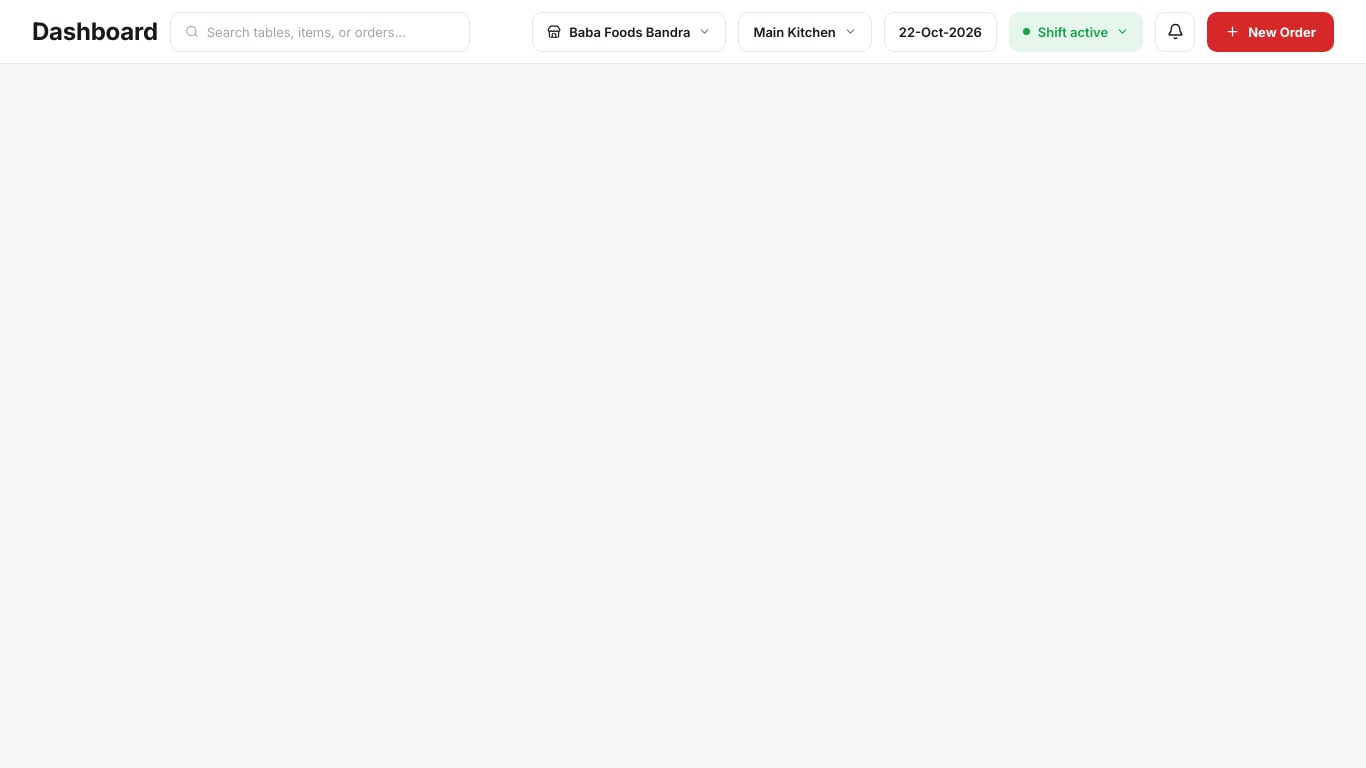
it: Adding a restaurant › derives the public address from the name
Step 1. Click the button "Baba Foods Bandra" → (629, 32), box [532,12,726,52]
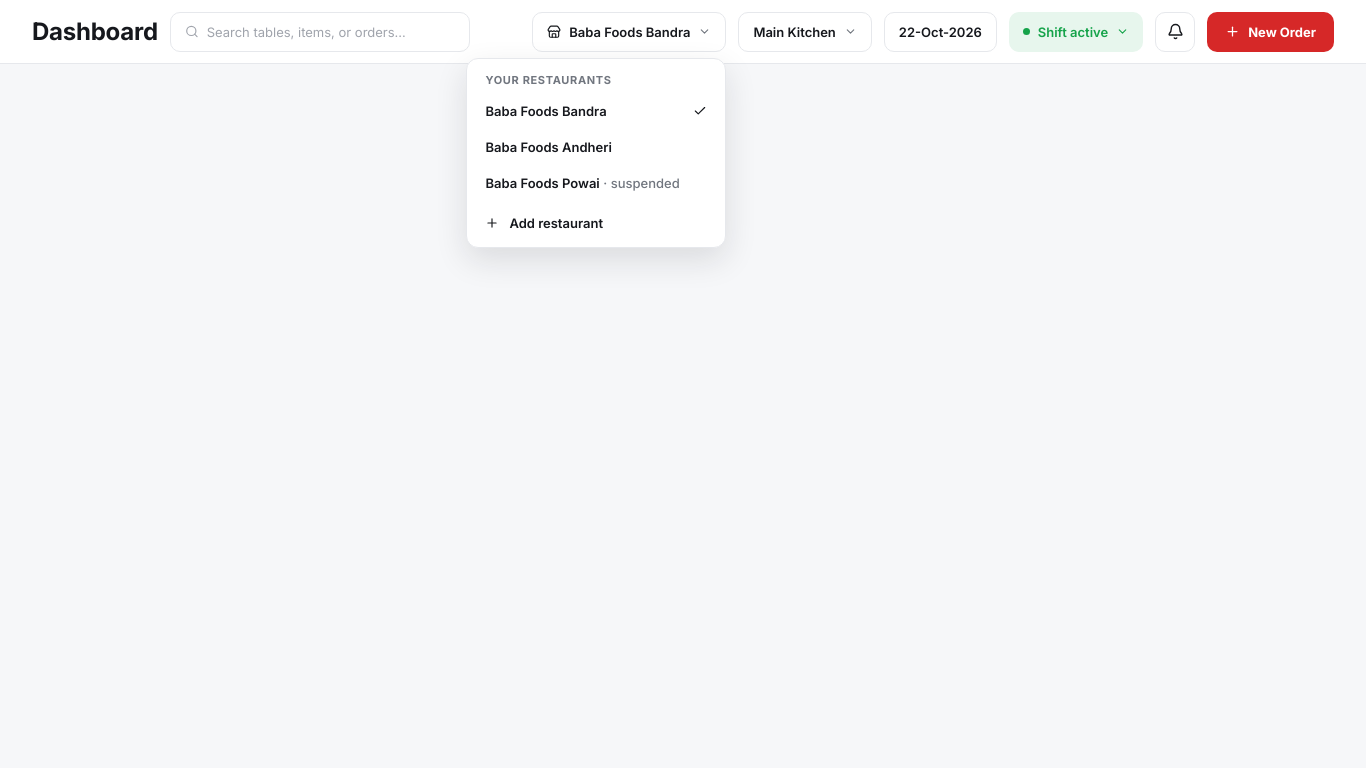
Step 2. Click the button "Add restaurant" → (596, 222), box [473,204,719,240]
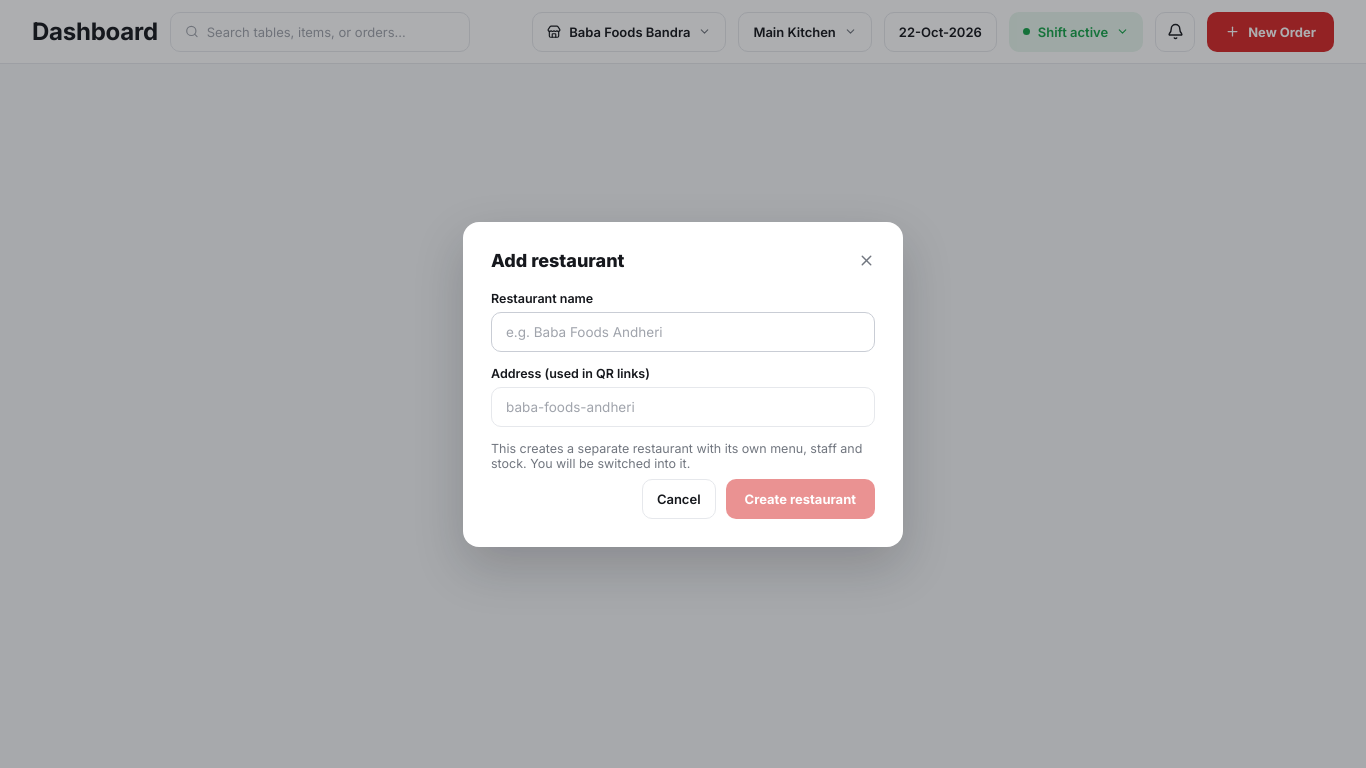
Step 3. Type "Baba Foods  Juhu!" into the field with placeholder "e.g. Baba Foods Andheri" → (683, 332), box [491,312,875,352]
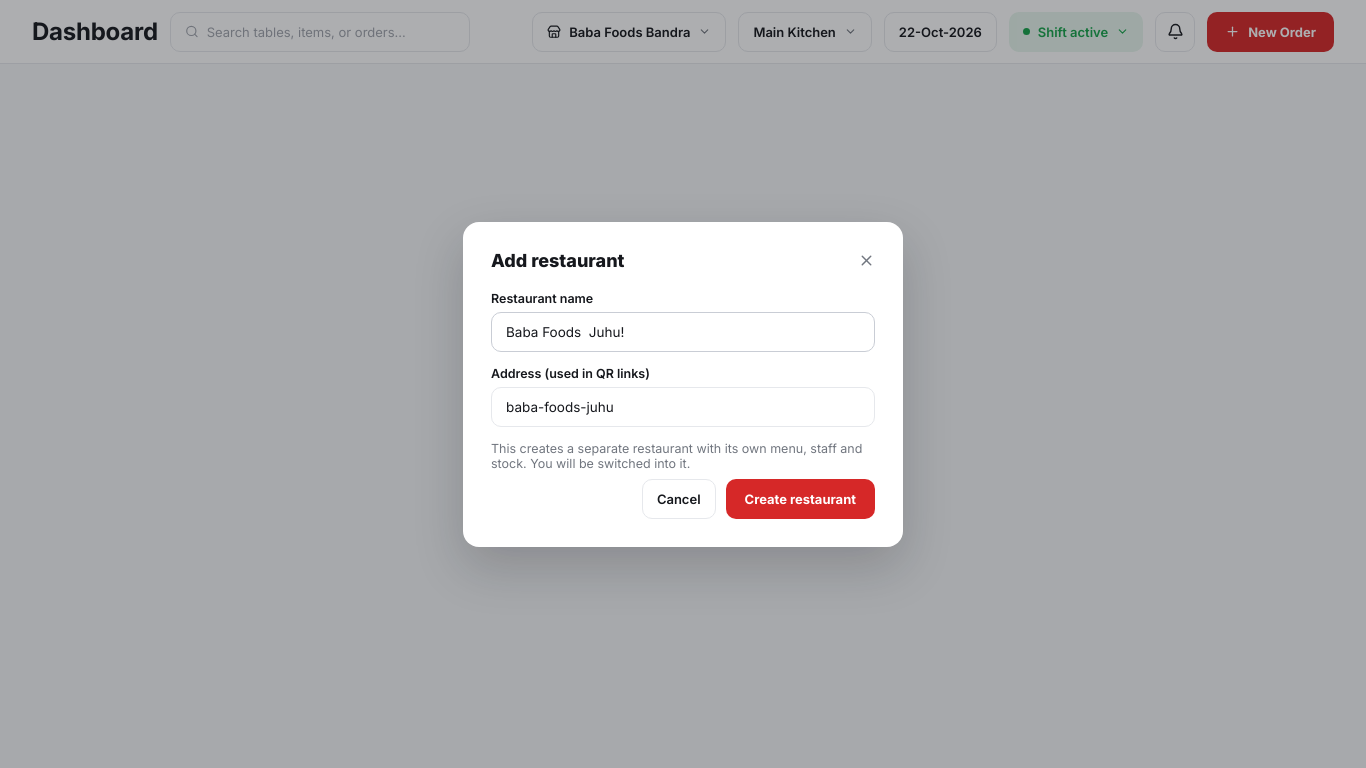
Now the field showing "baba-foods-juhu" below "Address (used in QR links)" is shown, box [491,386,875,426]
